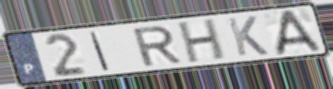2: (43, 32, 92, 79)
A: (275, 8, 325, 58)
H: (177, 16, 228, 65)
I: (88, 31, 112, 72)
K: (224, 15, 271, 58)
R: (130, 24, 184, 68)
